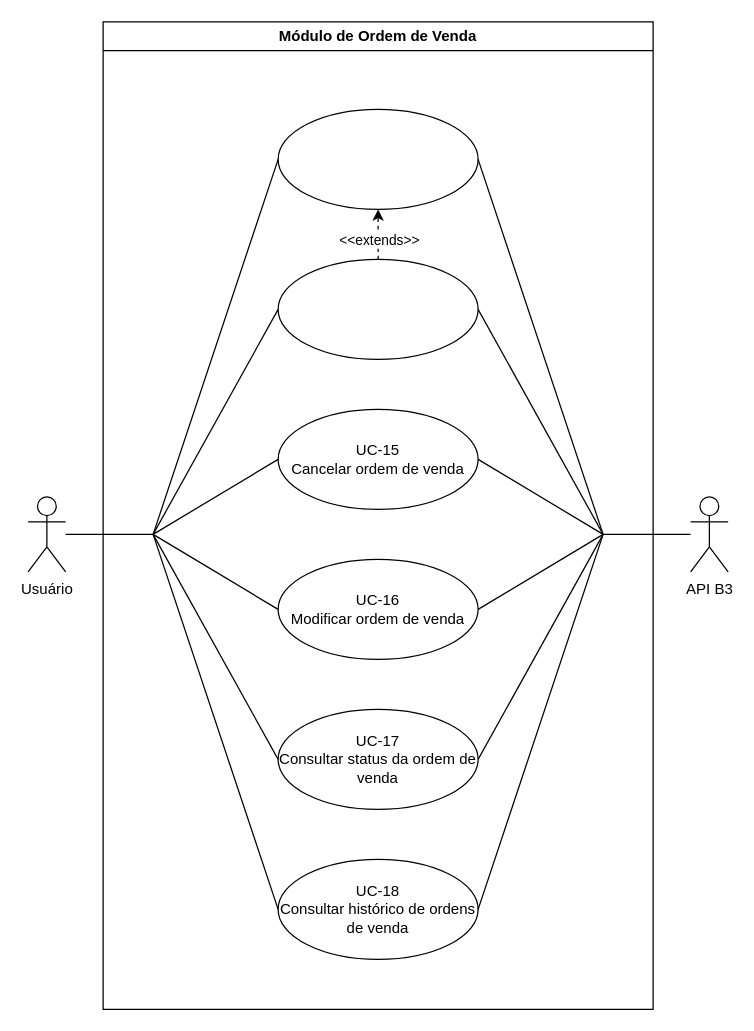
Image size: 754x1031. Some labels were removed from this diagram. The shapes that lost their labels are listed below. From the top down, each one's box as (x1, y1, x2, y2) in pixels, then its label:
(277, 108, 478, 209): UC-13 Simular ordem de venda
(277, 258, 478, 359): UC-14 Efetivar ordem de venda
